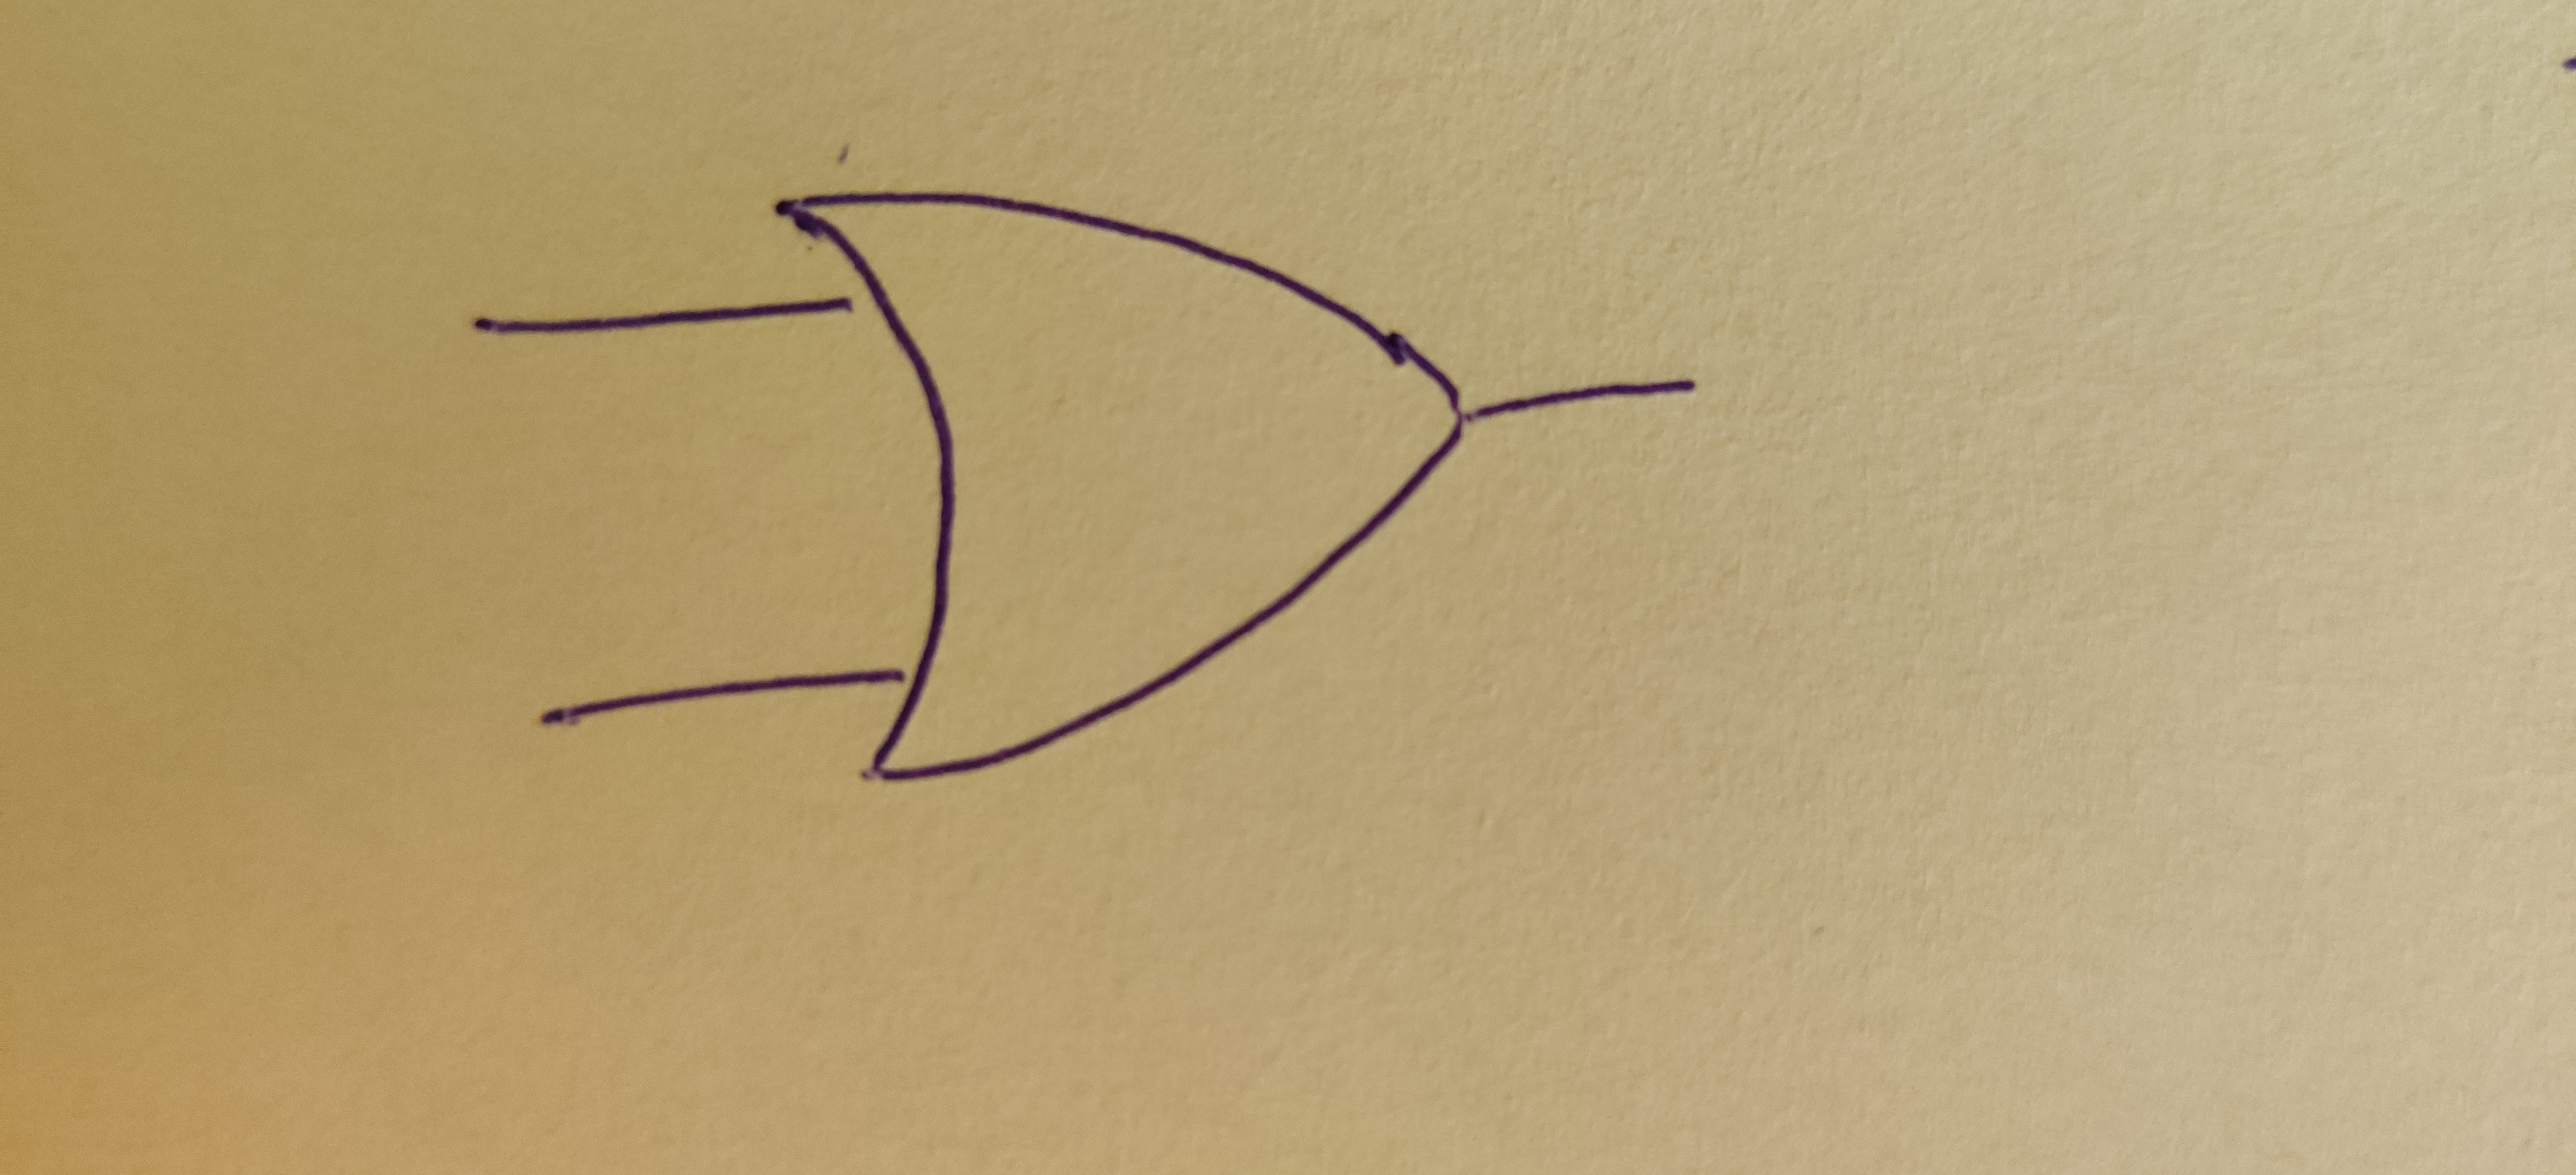or: (770, 186, 1464, 779)
